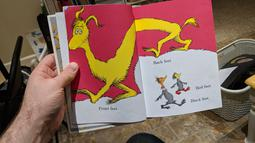text block: (93, 104, 123, 115), (149, 55, 176, 66), (189, 94, 211, 104), (192, 82, 215, 90)
